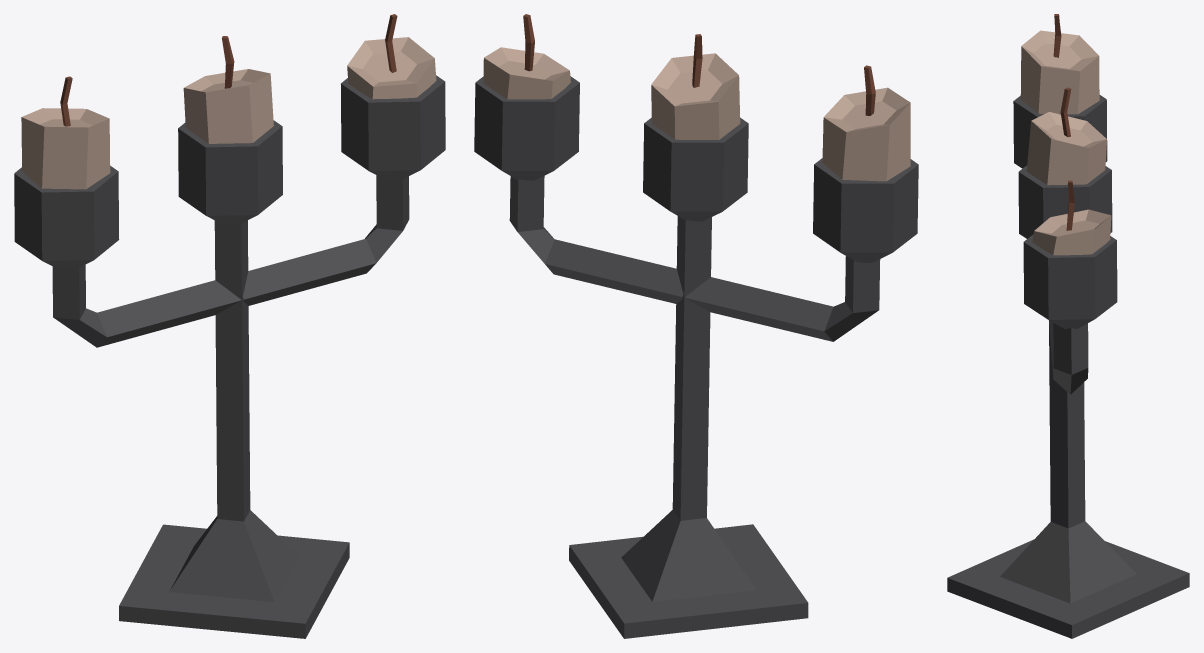
Rendered from Chandelier 2.glb.
3 renders of one model, left to right at view 1: azimuth 30°, elevation 25°; view 2: azimuth 150°, elevation 25°; view 3: azimuth 270°, elevation 25°, orthographic. The views are drawn at different scales.
Parts seen in each view (by area): view 1: Chandelier 2; view 2: Chandelier 2; view 3: Chandelier 2.
Part boxes in pixels (<box>): Chandelier 2: <box>14,14,445,638</box>; Chandelier 2: <box>474,14,918,638</box>; Chandelier 2: <box>947,14,1189,638</box>.
Size of what is drawn, in the model's own units: 0.4298 by 0.5571 by 0.2445.
1 material, 1 textured.
